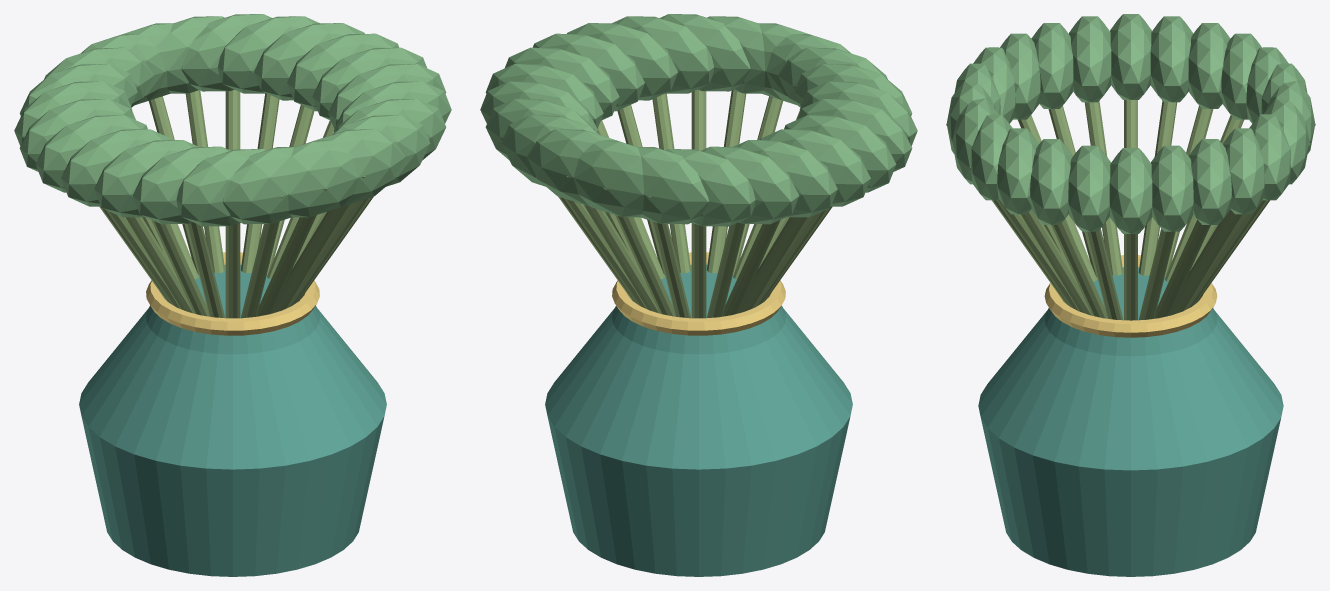
File: shinji_sakaki_stand.glb
3 views of the same model, side by side, from view 1: azimuth 30°, elevation 25°; view 2: azimuth 150°, elevation 25°; view 3: azimuth 270°, elevation 25° (orthographic).
Visible parts, largest first — view 1: Sakaki display sake-green ceramic vase, Evergreen sacred foliage.018, Evergreen sacred foliage.017, Evergreen sacred foliage.016, Sakaki vase mouth gold, Evergreen sacred foliage.015, Evergreen sacred foliage.014, Evergreen sacred foliage.003, Evergreen sacred foliage.019, Evergreen sacred foliage.013, Evergreen sacred foliage.002, Evergreen sacred foliage.012 (+29 smaller); view 2: Sakaki display sake-green ceramic vase, Evergreen sacred foliage.006, Evergreen sacred foliage.007, Evergreen sacred foliage.008, Sakaki vase mouth gold, Evergreen sacred foliage.009, Evergreen sacred foliage.010, Evergreen sacred foliage.021, Evergreen sacred foliage.005, Evergreen sacred foliage.011, Evergreen sacred foliage.022, Evergreen sacred foliage.012 (+29 smaller); view 3: Sakaki display sake-green ceramic vase, Sakaki vase mouth gold, Evergreen sacred foliage, Evergreen sacred foliage.001, Evergreen sacred foliage.023, Evergreen sacred foliage.012, Evergreen sacred foliage.011, Evergreen sacred foliage.013, Evergreen sacred foliage.002, Evergreen sacred foliage.022, Evergreen sacred foliage.010, Evergreen sacred foliage.014 (+30 smaller).
Boxes of the visible parts, bbox=[...] form: Sakaki display sake-green ceramic vase: bbox=[79, 264, 386, 576]; Evergreen sacred foliage.018: bbox=[288, 140, 357, 217]; Evergreen sacred foliage.017: bbox=[223, 147, 294, 224]; Evergreen sacred foliage.016: bbox=[176, 149, 265, 226]; Sakaki vase mouth gold: bbox=[146, 252, 319, 335]; Evergreen sacred foliage.015: bbox=[132, 146, 230, 224]; Evergreen sacred foliage.014: bbox=[94, 140, 198, 217]; Evergreen sacred foliage.003: bbox=[217, 16, 319, 93]; Evergreen sacred foliage.019: bbox=[317, 129, 404, 206]; Evergreen sacred foliage.013: bbox=[61, 129, 171, 206]; Evergreen sacred foliage.002: bbox=[254, 23, 364, 100]; Evergreen sacred foliage.012: bbox=[35, 115, 147, 192]; Sakaki display sake-green ceramic vase: bbox=[545, 264, 852, 576]; Evergreen sacred foliage.006: bbox=[574, 140, 643, 217]; Evergreen sacred foliage.007: bbox=[637, 147, 708, 224]; Evergreen sacred foliage.008: bbox=[666, 149, 755, 226]; Sakaki vase mouth gold: bbox=[612, 252, 785, 335]; Evergreen sacred foliage.009: bbox=[701, 146, 799, 224]; Evergreen sacred foliage.010: bbox=[733, 140, 837, 217]; Evergreen sacred foliage.021: bbox=[612, 16, 714, 93]; Evergreen sacred foliage.005: bbox=[527, 129, 614, 206]; Evergreen sacred foliage.011: bbox=[760, 129, 870, 206]; Evergreen sacred foliage.022: bbox=[567, 23, 677, 100]; Evergreen sacred foliage.012: bbox=[784, 115, 896, 192]; Sakaki display sake-green ceramic vase: bbox=[978, 267, 1283, 576]; Sakaki vase mouth gold: bbox=[1044, 255, 1217, 337]; Evergreen sacred foliage: bbox=[1109, 148, 1152, 233]; Evergreen sacred foliage.001: bbox=[1151, 145, 1193, 231]; Evergreen sacred foliage.023: bbox=[1068, 145, 1110, 231]; Evergreen sacred foliage.012: bbox=[1110, 14, 1151, 99]; Evergreen sacred foliage.011: bbox=[1150, 16, 1192, 102]; Evergreen sacred foliage.013: bbox=[1069, 16, 1111, 102]; Evergreen sacred foliage.002: bbox=[1189, 139, 1231, 224]; Evergreen sacred foliage.022: bbox=[1030, 139, 1072, 224]; Evergreen sacred foliage.010: bbox=[1188, 23, 1230, 108]; Evergreen sacred foliage.014: bbox=[1031, 23, 1073, 108].
Bounding box in the file's own units: 1.75 × 1.95 × 1.46.
